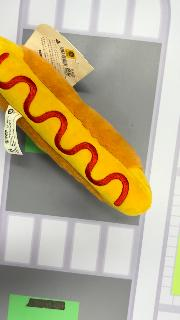hotdog: (1, 36, 153, 218)
